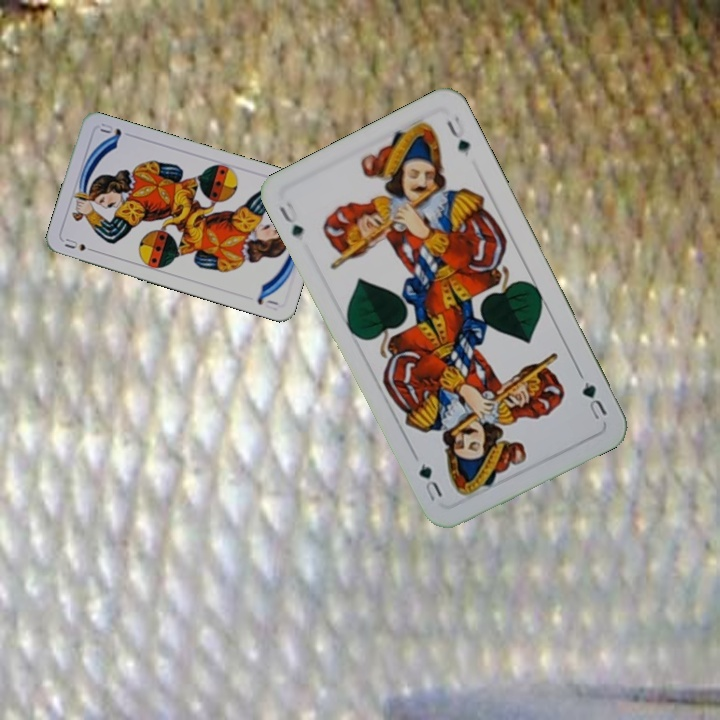GU: (578, 377, 610, 423), (275, 197, 306, 239)
SU: (61, 234, 99, 255)
